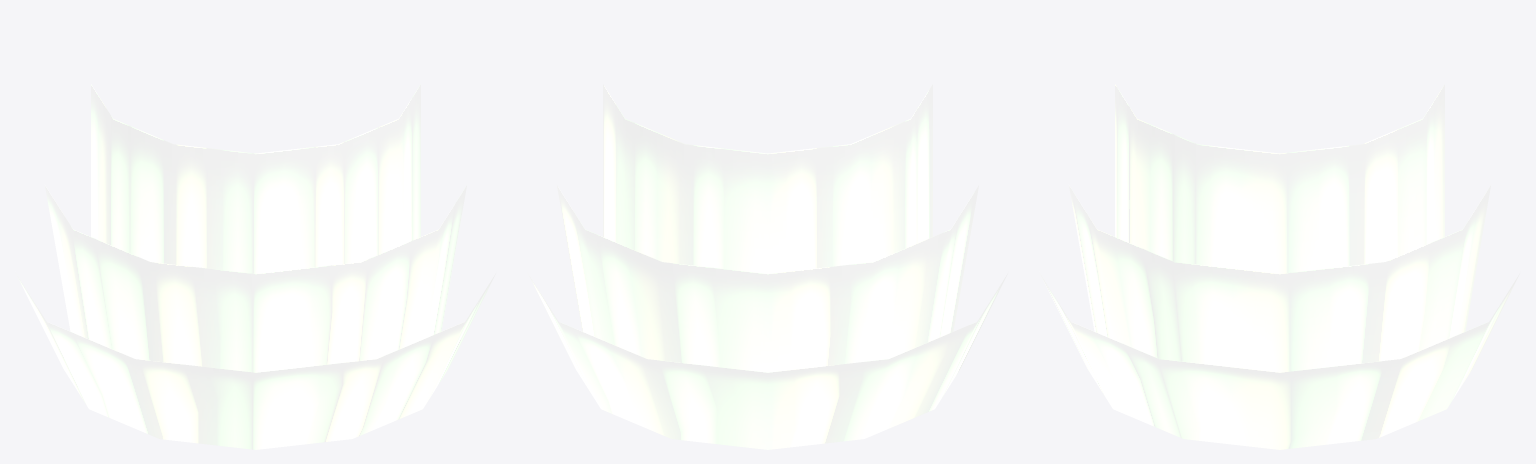
File: sfx_common_condition_green.glb
3 views of the same model, side by side, from view 1: azimuth 30°, elevation 25°; view 2: azimuth 150°, elevation 25°; view 3: azimuth 270°, elevation 25° (orthographic).
Parts seen in each view (by area): view 1: sfx_common_condition_green_obj0, sfx_common_condition_green_obj1, sfx_common_condition_green_obj2; view 2: sfx_common_condition_green_obj0, sfx_common_condition_green_obj1, sfx_common_condition_green_obj2; view 3: sfx_common_condition_green_obj0, sfx_common_condition_green_obj1, sfx_common_condition_green_obj2.
Boxes of the visible parts, x1,y1,x2,y2 form: sfx_common_condition_green_obj0: (91, 84, 420, 273); sfx_common_condition_green_obj1: (45, 185, 466, 372); sfx_common_condition_green_obj2: (16, 273, 495, 449); sfx_common_condition_green_obj0: (603, 84, 932, 273); sfx_common_condition_green_obj1: (557, 185, 978, 372); sfx_common_condition_green_obj2: (528, 273, 1007, 449); sfx_common_condition_green_obj0: (1115, 84, 1444, 273); sfx_common_condition_green_obj1: (1069, 185, 1490, 372); sfx_common_condition_green_obj2: (1040, 273, 1519, 449).
Bounding box in the file's own units: 0.7606 × 0.4948 × 0.7606.
Materials: 1 (1 with a texture image).
